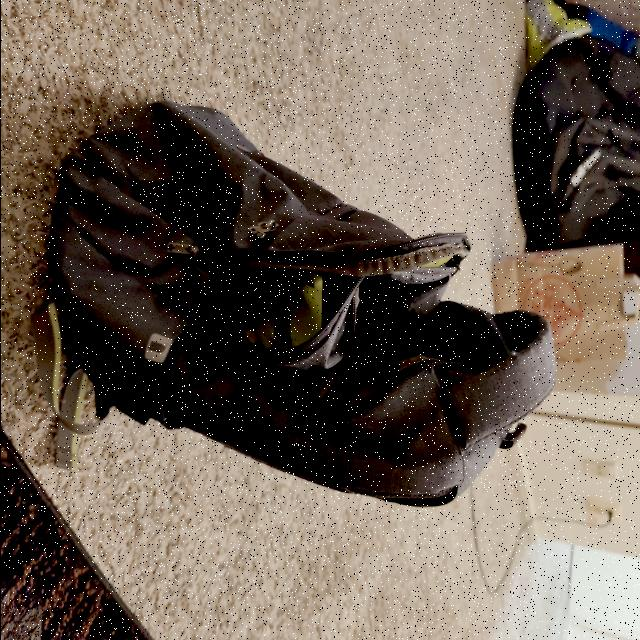bag: (78, 99, 554, 536)
